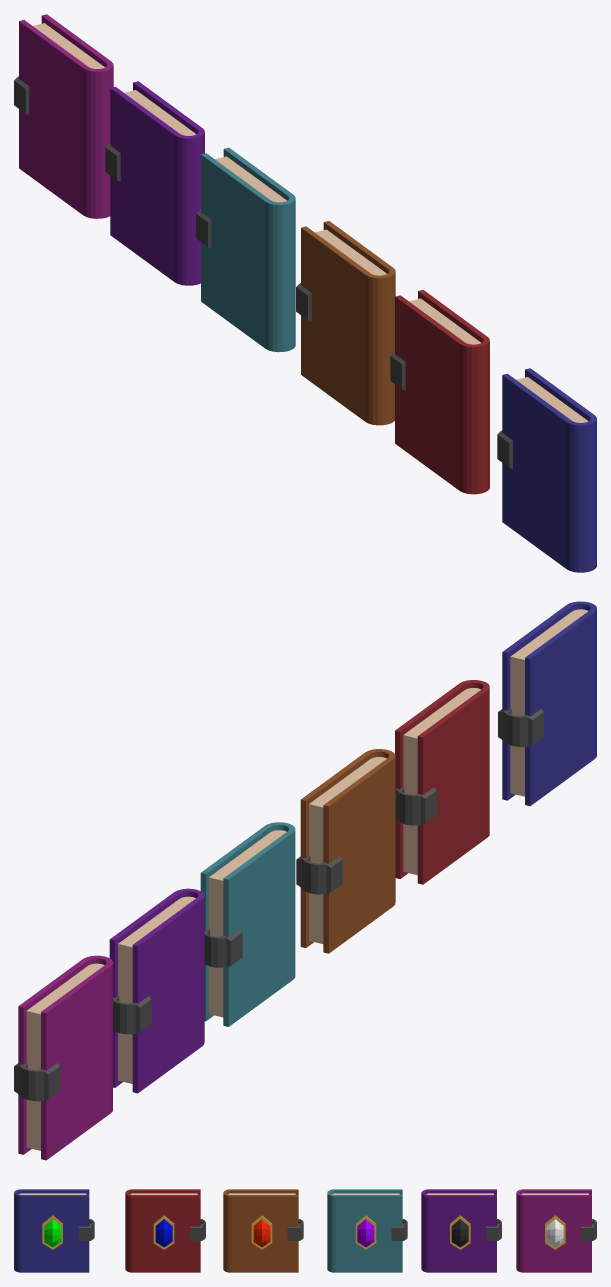
Rendered from Book.fbx.
The picture shows the model from 3 angles, top to bottom: view 1: azimuth 30°, elevation 25°; view 2: azimuth 150°, elevation 25°; view 3: azimuth 270°, elevation 25°; orthographic projection. The views are drawn at different scales.
Visible parts, largest first — view 1: Cube.006, Cylinder, Cube.015, Cube.003, Cube.013, Cylinder.006; view 2: Cube.003, Cube.013, Cube.015, Cylinder, Cylinder.006, Cube.006; view 3: Cube.006, Cube.015, Cube.003, Cube.013, Cylinder, Cylinder.006.
Part boxes in pixels (left/top/right/bottom): Cube.006: left=196, top=147, right=295, bottom=352; Cylinder: left=390, top=290, right=489, bottom=494; Cube.015: left=497, top=368, right=596, bottom=572; Cube.003: left=296, top=221, right=395, bottom=425; Cube.013: left=14, top=14, right=113, bottom=218; Cylinder.006: left=105, top=81, right=204, bottom=285; Cube.003: left=296, top=749, right=395, bottom=953; Cube.013: left=14, top=955, right=112, bottom=1160; Cube.015: left=498, top=601, right=596, bottom=806; Cylinder: left=395, top=680, right=489, bottom=884; Cylinder.006: left=109, top=888, right=204, bottom=1093; Cube.006: left=200, top=822, right=295, bottom=1026; Cube.006: left=327, top=1189, right=407, bottom=1272; Cube.015: left=14, top=1189, right=94, bottom=1272; Cube.003: left=223, top=1189, right=303, bottom=1272; Cube.013: left=516, top=1189, right=596, bottom=1272; Cylinder: left=125, top=1189, right=205, bottom=1272; Cylinder.006: left=421, top=1189, right=501, bottom=1272.
Bounding box in the file's own units: 323 × 999 × 6904.
